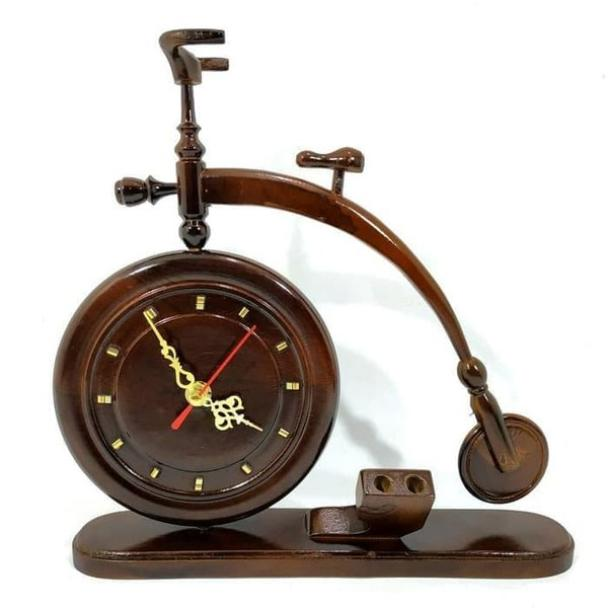Jam: (63, 248, 335, 528)
